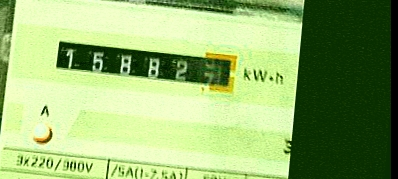1: (60, 45, 76, 68)
2: (171, 57, 189, 82)
5: (88, 47, 104, 74)
7: (201, 67, 214, 85)
8: (144, 55, 160, 80), (116, 52, 131, 76)
screen: (44, 30, 245, 102)
